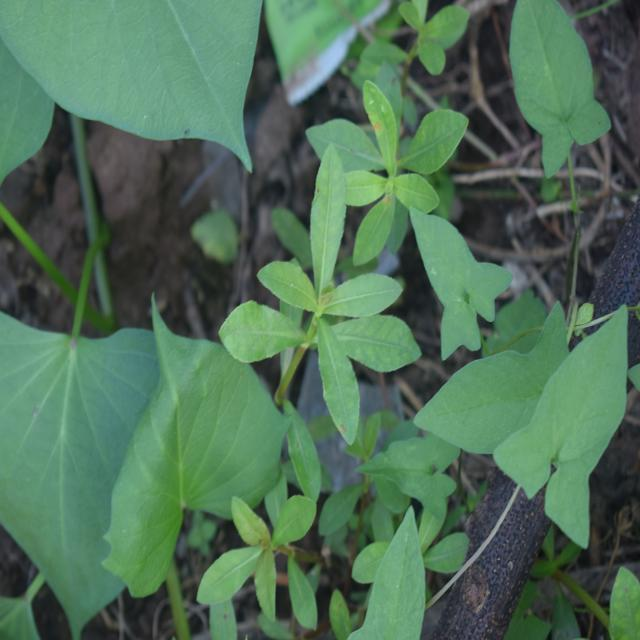Alligatorweed: (217, 175, 401, 428), (311, 54, 459, 245), (199, 472, 333, 632)
